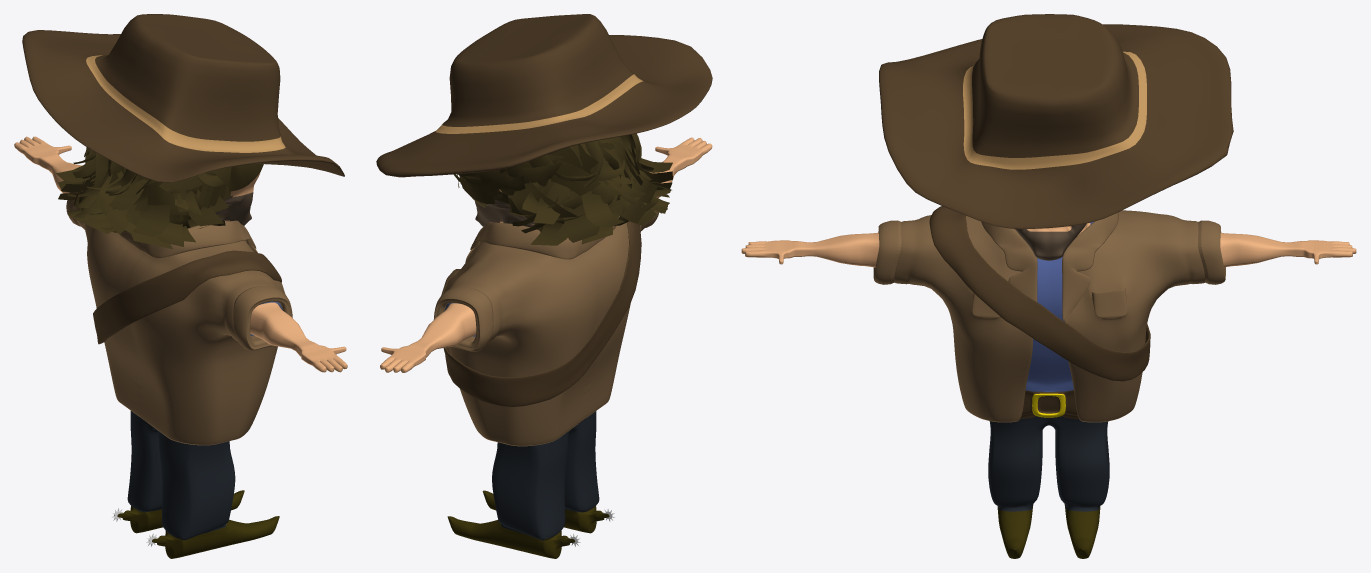
The model's file is main-character.9ee5a664.glb.
3 views of the same model, side by side, from view 1: azimuth 30°, elevation 25°; view 2: azimuth 150°, elevation 25°; view 3: azimuth 270°, elevation 25° (orthographic). The views are drawn at different scales.
Visible parts, largest first — view 1: WildWestProject0004_0003:hat3, WildWestProject0004_0003:jacket2, WildWestProject0004_0003:body; view 2: WildWestProject0004_0003:hat3, WildWestProject0004_0003:jacket2, WildWestProject0004_0003:body; view 3: WildWestProject0004_0003:hat3, WildWestProject0004_0003:jacket2, WildWestProject0004_0003:body.
Boxes of the visible parts, x1,y1,x2,y2 form: WildWestProject0004_0003:hat3: [22, 14, 344, 249]; WildWestProject0004_0003:jacket2: [66, 190, 292, 445]; WildWestProject0004_0003:body: [14, 136, 347, 558]; WildWestProject0004_0003:hat3: [376, 14, 712, 245]; WildWestProject0004_0003:jacket2: [433, 197, 659, 446]; WildWestProject0004_0003:body: [380, 137, 712, 558]; WildWestProject0004_0003:hat3: [879, 14, 1233, 228]; WildWestProject0004_0003:jacket2: [873, 206, 1225, 422]; WildWestProject0004_0003:body: [741, 221, 1356, 558].
Bounding box in the file's own units: 0.0837 × 0.1651 × 0.1851.
